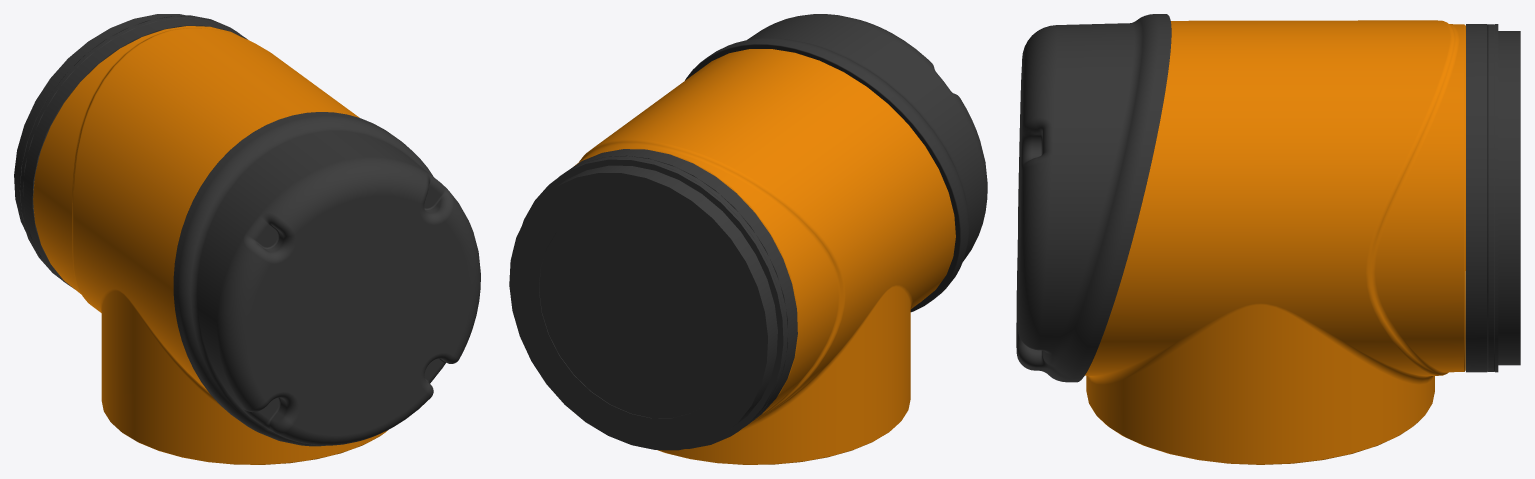
3 renders of one model, left to right at view 1: azimuth 30°, elevation 25°; view 2: azimuth 150°, elevation 25°; view 3: azimuth 270°, elevation 25°, orthographic. The views are drawn at different scales.
Visible parts, largest first — view 1: NONE; view 2: NONE; view 3: NONE.
Boxes of the visible parts, x1,y1,x2,y2 form: NONE: (14,14,480,464); NONE: (509,14,987,464); NONE: (1016,14,1520,464).
Bounding box in the file's own units: 0.1035 × 0.1416 × 0.1118.
